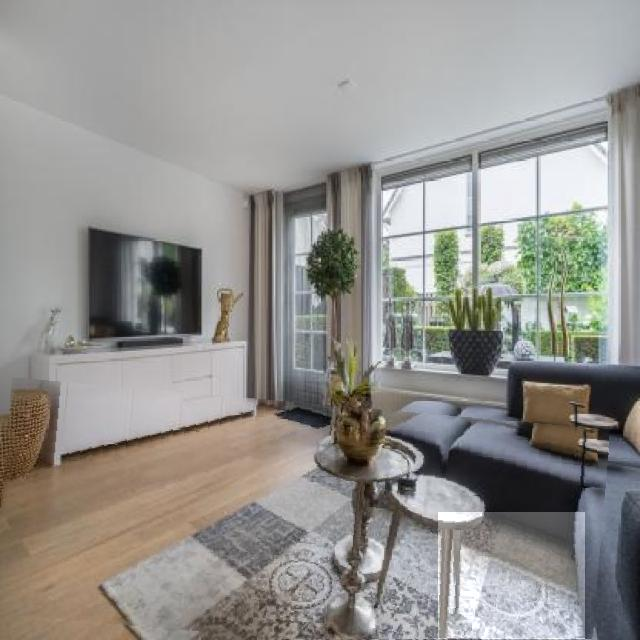floor: (0, 402, 442, 640), (439, 513, 585, 639)
